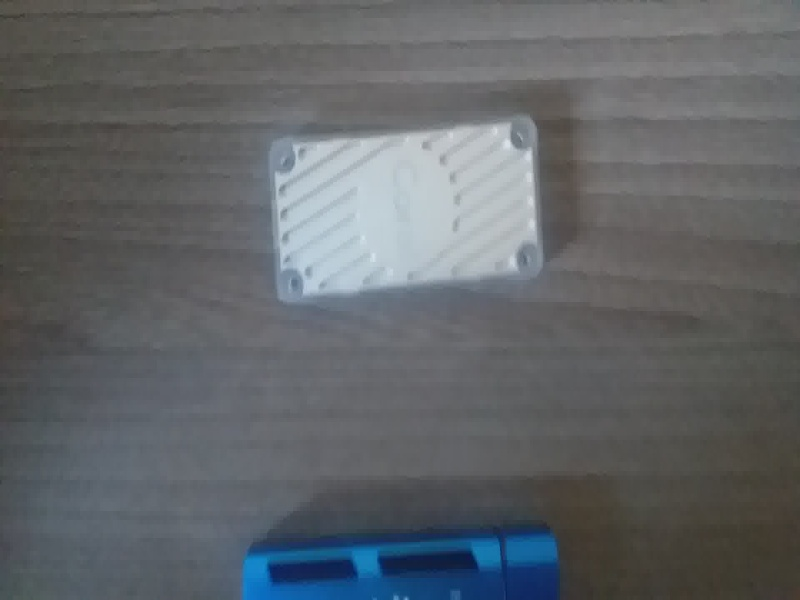coral: (257, 115, 551, 311)
movidius: (233, 504, 573, 600)
